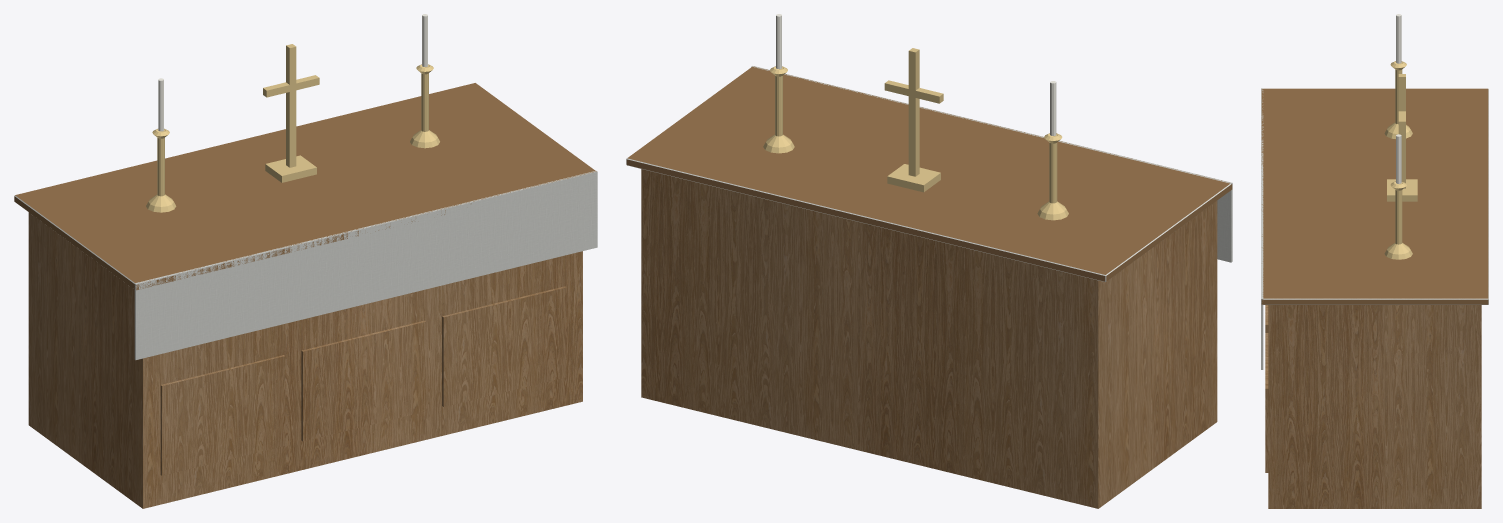
Rendered from altar.glb.
3 views of the same model, side by side, from view 1: azimuth 30°, elevation 25°; view 2: azimuth 150°, elevation 25°; view 3: azimuth 270°, elevation 25° (orthographic). The views are drawn at different scales.
Visible parts, largest first — view 1: altar; view 2: altar; view 3: altar.
Part boxes in pixels (x1,y1,x2,y2): altar: [14, 14, 597, 508]; altar: [626, 14, 1232, 508]; altar: [1261, 14, 1488, 508].
Size of the model in its own units: 2.1 by 1.55 by 0.96.
Materials: 4 (2 with a texture image).
